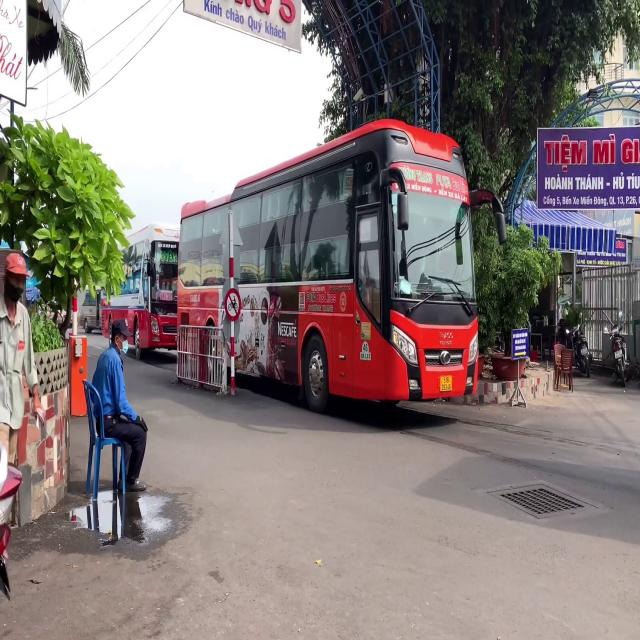bien_vang: (440, 375, 453, 392)
